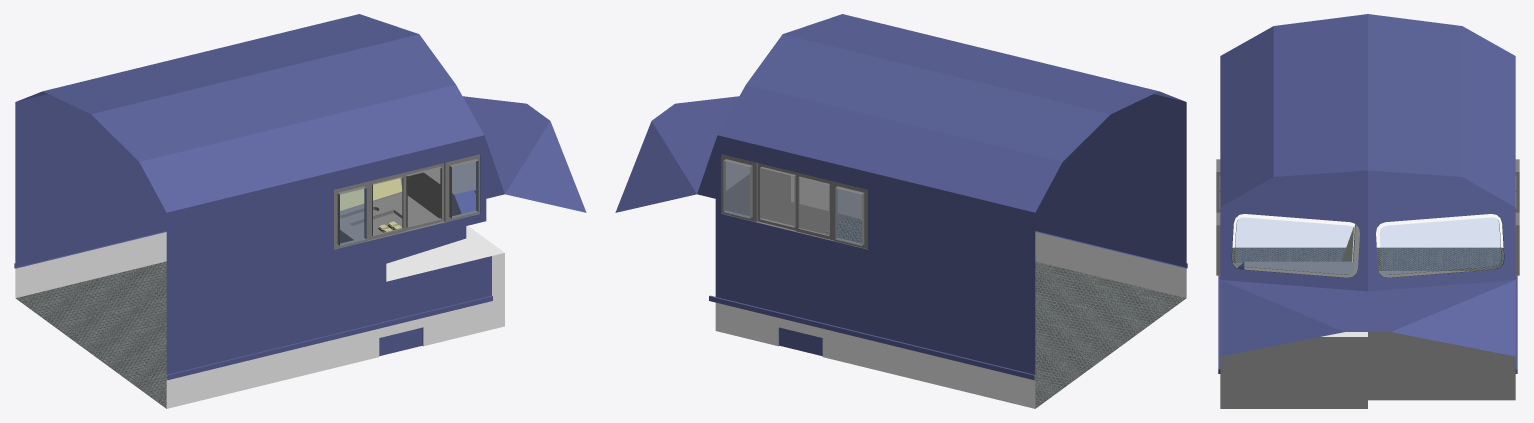
Rendered from train_interiorPainted.fbx.
The picture shows the model from 3 angles, left to right: view 1: azimuth 30°, elevation 25°; view 2: azimuth 150°, elevation 25°; view 3: azimuth 270°, elevation 25°; orthographic projection. The views are drawn at different scales.
Visible parts, largest first — view 1: Model; view 2: Model; view 3: Model.
Part boxes in pixels (left/top/right/bottom): Model: left=14, top=14, right=586, bottom=408; Model: left=615, top=14, right=1187, bottom=408; Model: left=1216, top=14, right=1519, bottom=408.
Size of the model in its own units: 5.01 by 2.56 by 3.01.
